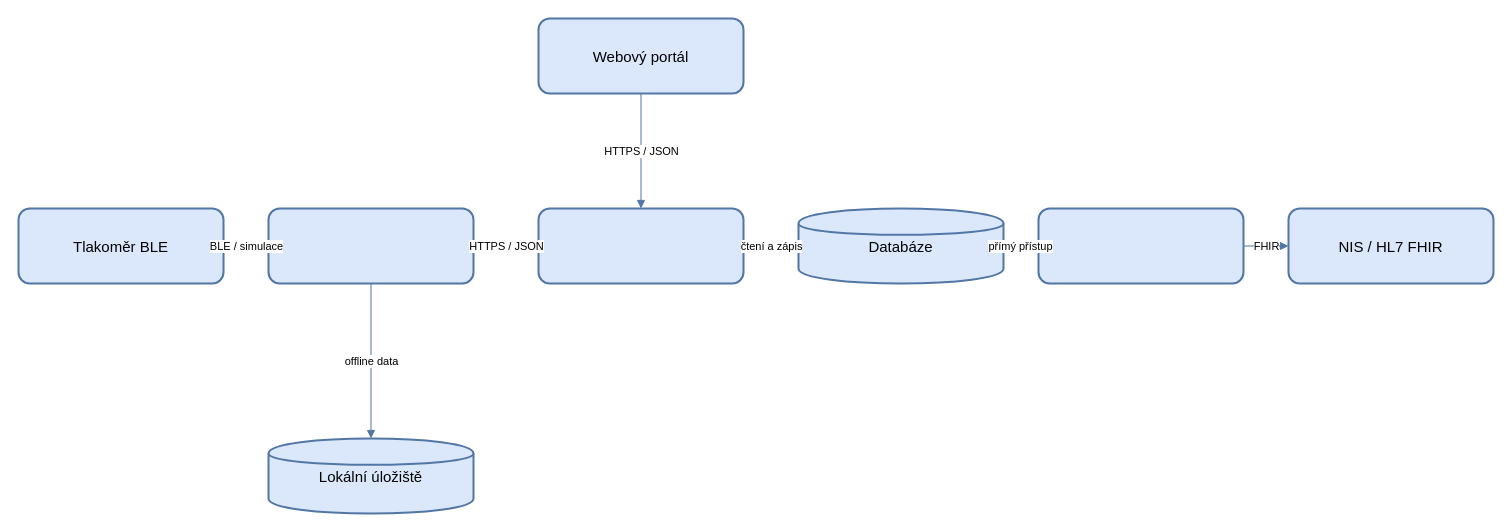
Image size: 1511x531. Some labels were removed from this diagram. The shapes that lost their labels are listed below. From the top down, each one's centre as x and y in pixels, then its label:
At (370,245): "Mobilní aplikace".
At (640,245): "WEB API".
At (1140,245): "Integrátor NIS".
